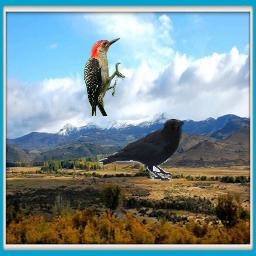Crow: (98, 119, 184, 182)
Woodpecker: (84, 38, 126, 116)
